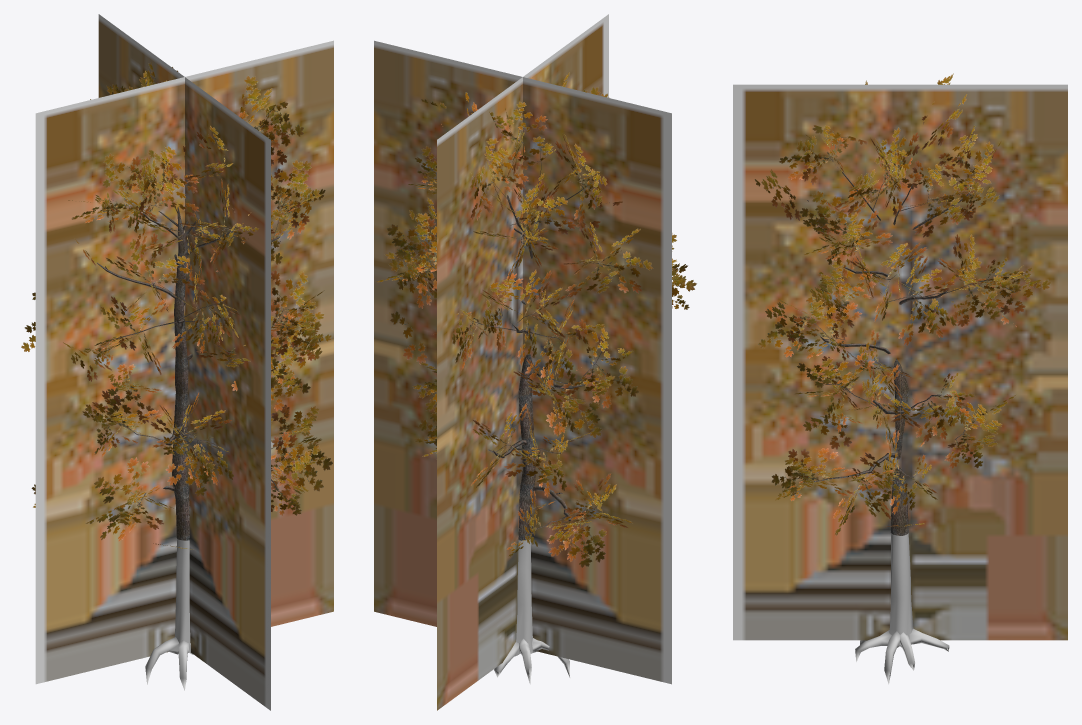
Rendered from Tree-Maple0C.fbx.
The picture shows the model from 3 angles, left to right: view 1: azimuth 30°, elevation 25°; view 2: azimuth 150°, elevation 25°; view 3: azimuth 270°, elevation 25°; orthographic projection. The views are drawn at different scales.
Parts seen in each view (by area): view 1: Billboard-MapleC, Tree-Maple0C_LOD0; view 2: Billboard-MapleC, Tree-Maple0C_LOD0; view 3: Billboard-MapleC, Tree-Maple0C_LOD0.
Part boxes in pixels (x1,y1,x2,y2): Billboard-MapleC: (35, 14, 333, 710); Tree-Maple0C_LOD0: (21, 62, 332, 690); Billboard-MapleC: (374, 14, 671, 710); Tree-Maple0C_LOD0: (376, 72, 696, 684); Billboard-MapleC: (733, 84, 1067, 640); Tree-Maple0C_LOD0: (754, 73, 1051, 684).
Size of what is drawn, in the model's own units: 1513 by 2900 by 1513.
